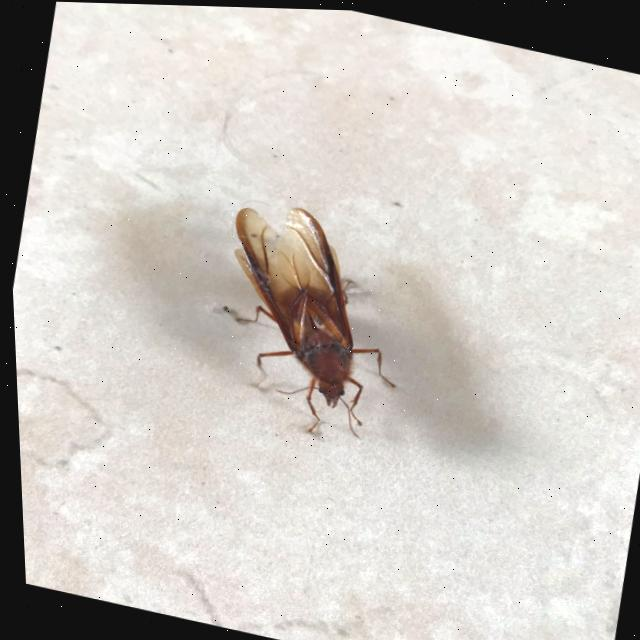Alive-Male-Alate: (194, 192, 424, 450)
